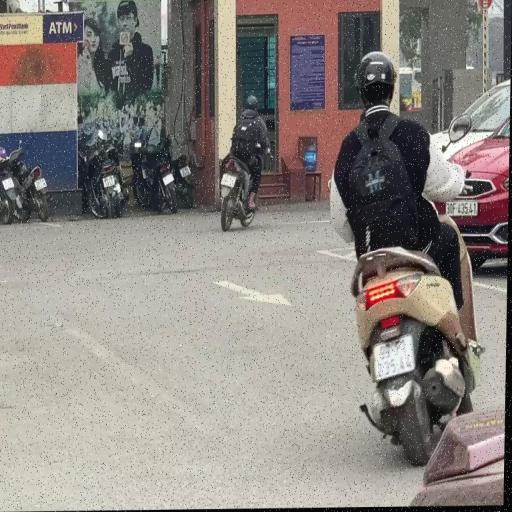bike: (324, 49, 487, 469), (220, 96, 276, 232)
numberplate: (372, 333, 419, 383), (221, 173, 238, 189), (34, 178, 48, 191), (103, 175, 116, 188), (162, 174, 175, 187), (3, 178, 15, 190), (180, 166, 192, 178)
with helmet: (354, 50, 399, 93), (244, 97, 259, 111)
